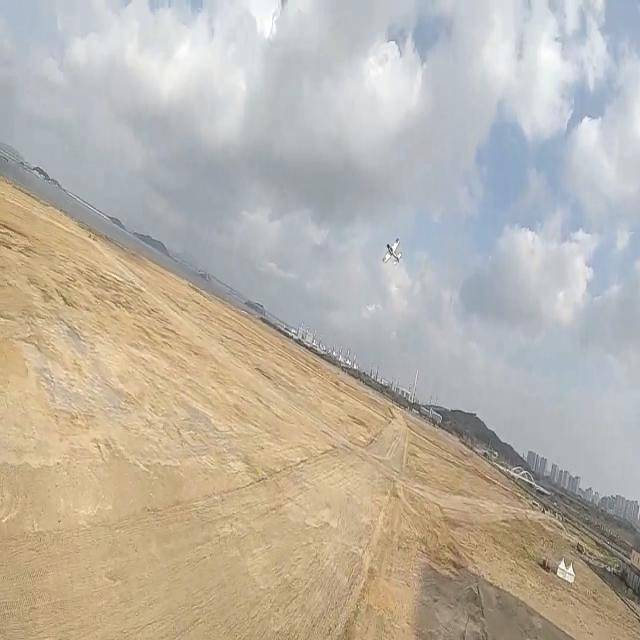iha: (372, 236, 401, 267)
